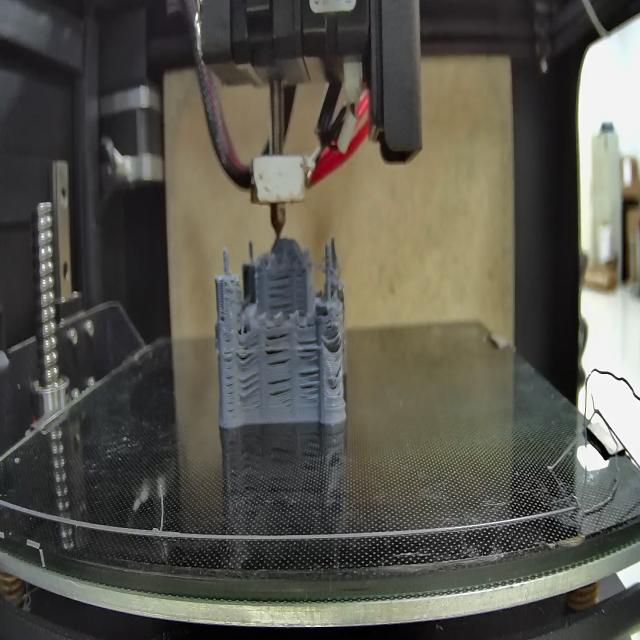cracks: (298, 336, 322, 406), (269, 269, 293, 315), (264, 331, 291, 366), (267, 373, 293, 409), (235, 339, 261, 367), (224, 341, 234, 413), (240, 373, 261, 400), (325, 328, 342, 353), (329, 360, 342, 392), (221, 306, 226, 326)
